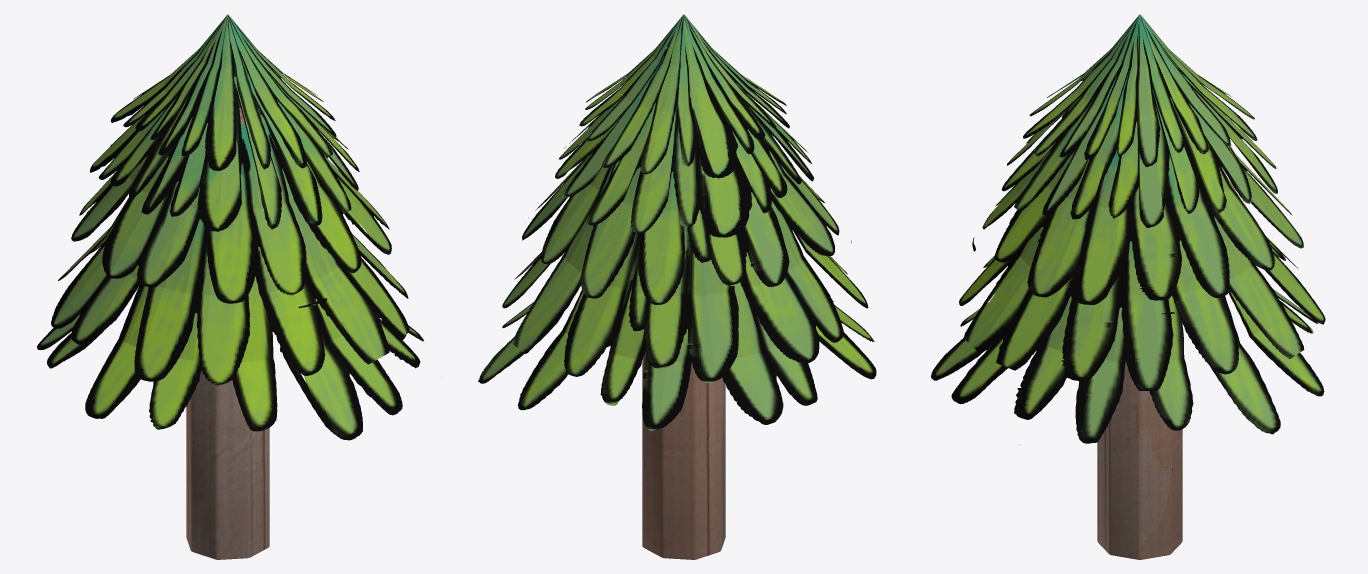
The model's file is FOREST_PILLAR_THIN.obj.
3 views of the same model, side by side, from view 1: azimuth 30°, elevation 25°; view 2: azimuth 150°, elevation 25°; view 3: azimuth 270°, elevation 25° (orthographic).
Parts seen in each view (by area): view 1: FOREST_PILLAR_THIN.001; view 2: FOREST_PILLAR_THIN.001; view 3: FOREST_PILLAR_THIN.001.
Part boxes in pixels (<box>): FOREST_PILLAR_THIN.001: <box>37,14,423,559</box>; FOREST_PILLAR_THIN.001: <box>478,14,876,559</box>; FOREST_PILLAR_THIN.001: <box>931,14,1325,559</box>.
Size of the model in its own units: 2.78 by 3.79 by 2.78.
